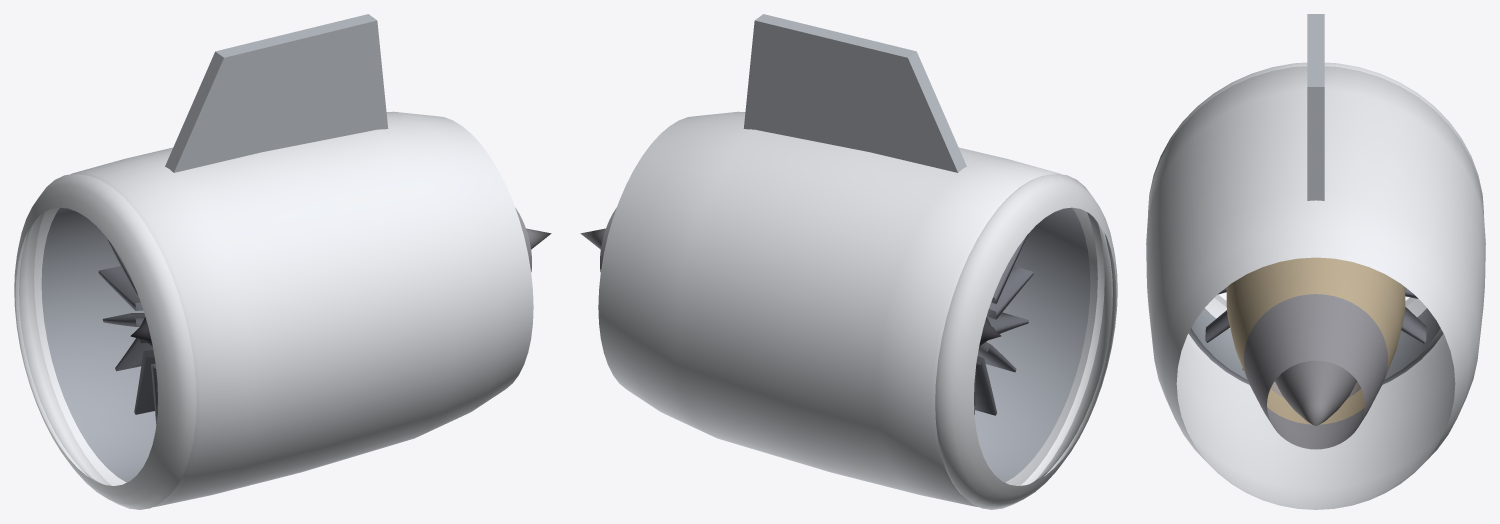
File: engine-leap-1a.glb
3 views of the same model, side by side, from view 1: azimuth 30°, elevation 25°; view 2: azimuth 150°, elevation 25°; view 3: azimuth 270°, elevation 25° (orthographic). The views are drawn at different scales.
Parts seen in each view (by area): view 1: 01_Nacelle_Cowl, 10_Pylon, 01b_Inlet_Lip, 02_Fan_Case, 04_Fan_Blades; view 2: 01_Nacelle_Cowl, 10_Pylon, 01b_Inlet_Lip, 02_Fan_Case, 04_Fan_Blades; view 3: 01_Nacelle_Cowl, 08_Exhaust_Nozzle, 05_Core_Casing, 09_Exhaust_Plug, 02_Fan_Case, 10_Pylon, 01b_Inlet_Lip, 04_Fan_Blades.
Part boxes in pixels (box(x1,y1,x2,y2)): 01_Nacelle_Cowl: box(19, 111, 533, 507); 10_Pylon: box(165, 14, 388, 172); 01b_Inlet_Lip: box(14, 173, 196, 509); 02_Fan_Case: box(41, 207, 156, 482); 04_Fan_Blades: box(98, 236, 157, 423); 01_Nacelle_Cowl: box(598, 111, 1112, 507); 10_Pylon: box(743, 14, 966, 172); 01b_Inlet_Lip: box(935, 173, 1117, 509); 02_Fan_Case: box(974, 207, 1090, 482); 04_Fan_Blades: box(974, 234, 1033, 415); 01_Nacelle_Cowl: box(1146, 66, 1485, 509); 08_Exhaust_Nozzle: box(1244, 294, 1387, 449); 05_Core_Casing: box(1226, 257, 1405, 424); 09_Exhaust_Plug: box(1275, 360, 1356, 425); 02_Fan_Case: box(1188, 308, 1443, 384); 10_Pylon: box(1307, 14, 1324, 200); 01b_Inlet_Lip: box(1148, 62, 1483, 307); 04_Fan_Blades: box(1205, 287, 1426, 370).
Size of the model in its own units: 3.64 by 3.12 by 2.36.
